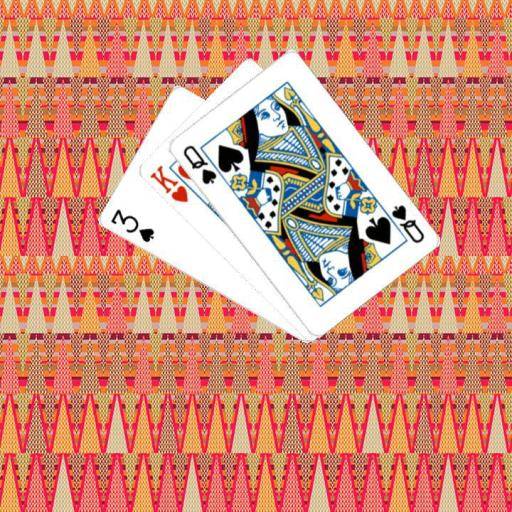3S: (107, 205, 156, 244)
KH: (146, 162, 190, 204)
QS: (180, 142, 219, 186), (388, 202, 425, 246)
